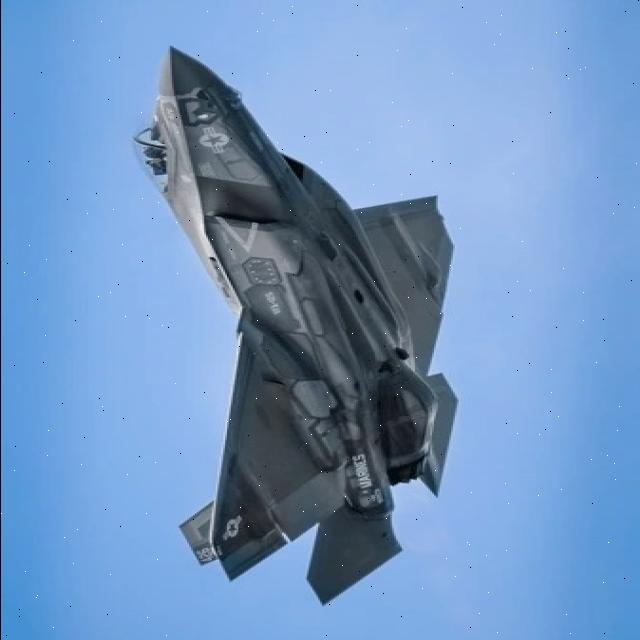jet: (111, 19, 531, 624)
